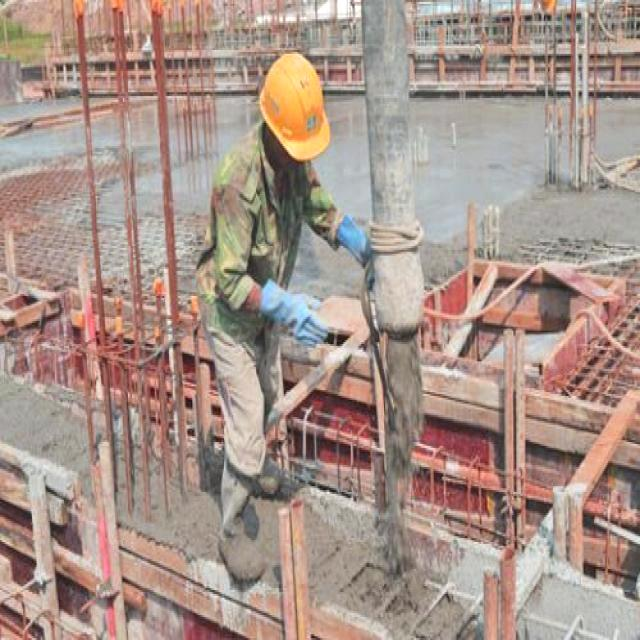hand_glove: (257, 282, 330, 353)
head_helmet: (252, 50, 337, 164)
person: (194, 51, 357, 584)
shoes: (213, 515, 269, 592)
